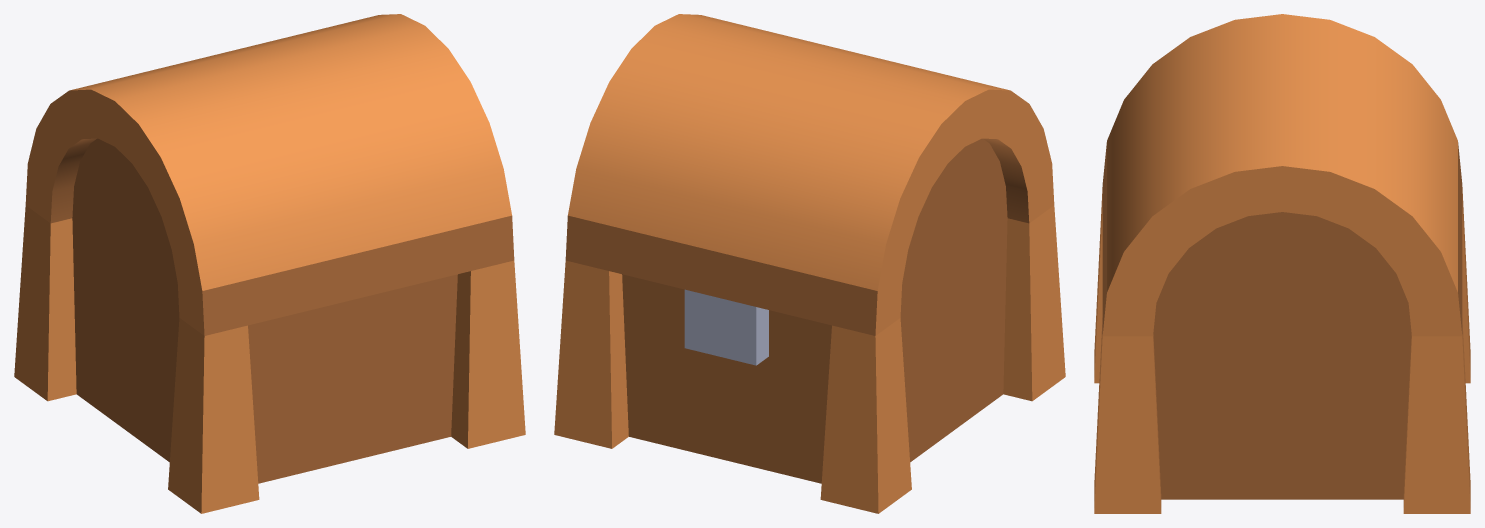
Rendered from Chest.glb.
The picture shows the model from 3 angles, left to right: view 1: azimuth 30°, elevation 25°; view 2: azimuth 150°, elevation 25°; view 3: azimuth 270°, elevation 25°; orthographic projection.
Parts seen in each view (by area): view 1: lid, chest; view 2: lid, chest; view 3: lid, chest.
Part boxes in pixels (left/top/right/bottom): lid: left=25, top=14, right=514, bottom=335; chest: left=14, top=205, right=525, bottom=513; lid: left=565, top=14, right=1054, bottom=335; chest: left=554, top=205, right=1065, bottom=513; lid: left=1102, top=14, right=1462, bottom=336; chest: left=1094, top=187, right=1470, bottom=513.
Bounding box in the file's own units: 0.2604 × 0.2628 × 0.2604.
